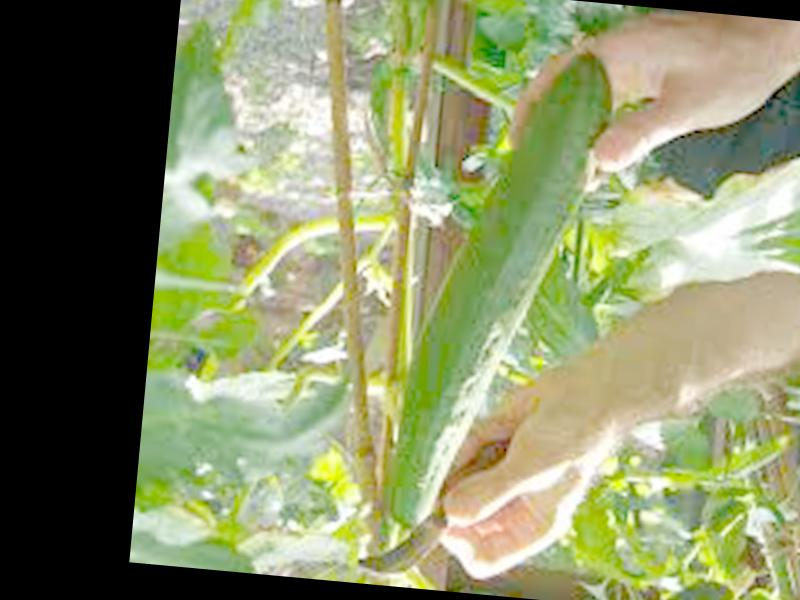Cucumber: (383, 39, 614, 540)
